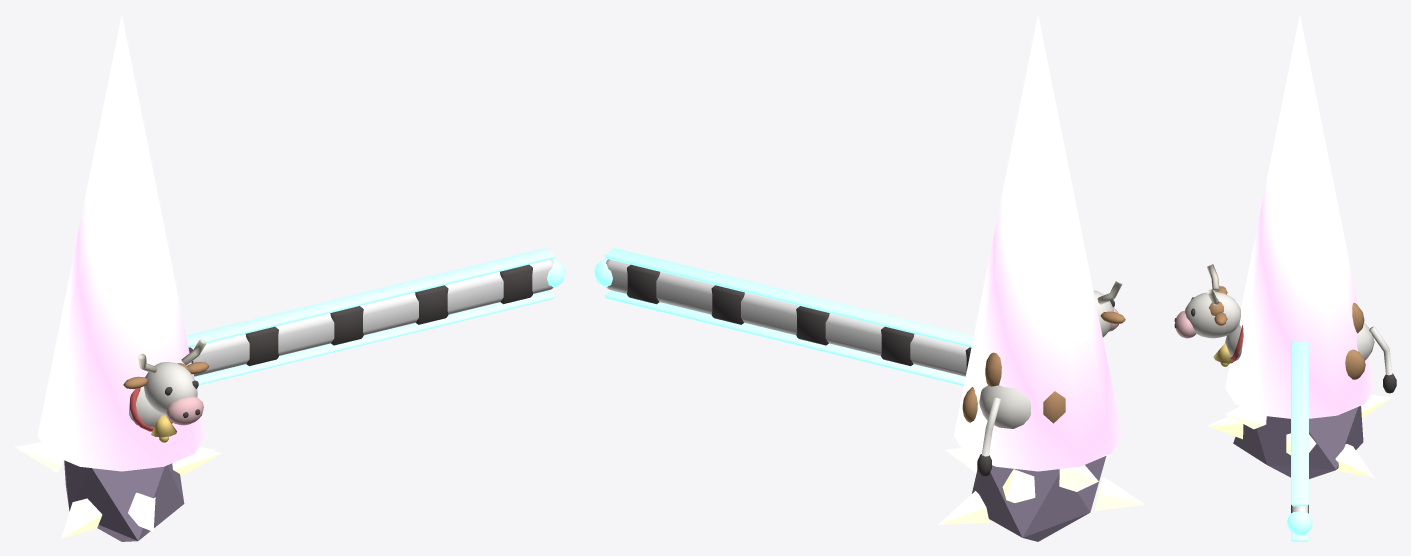
Rendered from critters.glb.
The picture shows the model from 3 angles, left to right: view 1: azimuth 30°, elevation 25°; view 2: azimuth 150°, elevation 25°; view 3: azimuth 270°, elevation 25°; orthographic projection. The views are drawn at different scales.
Parts seen in each view (by area): view 1: CR_Meteor, CR_Bar, CR_CowHead, CR_CowBody; view 2: CR_Meteor, CR_Bar, CR_CowBody, CR_CowHead; view 3: CR_Meteor, CR_Bar, CR_CowHead, CR_CowBody.
Boxes of the visible parts, x1,y1,x2,y2 form: CR_Meteor: [14, 14, 221, 541]; CR_Bar: [186, 248, 565, 385]; CR_CowHead: [123, 339, 209, 425]; CR_CowBody: [129, 387, 176, 442]; CR_Meteor: [938, 14, 1145, 541]; CR_Bar: [594, 248, 973, 385]; CR_CowBody: [962, 352, 1065, 476]; CR_CowHead: [1093, 281, 1125, 337]; CR_Meteor: [1207, 14, 1392, 478]; CR_Bar: [1286, 341, 1312, 541]; CR_CowHead: [1174, 264, 1240, 338]; CR_CowBody: [1213, 303, 1396, 393].
Bounding box in the file's own units: 9 × 8.63 × 3.71.
